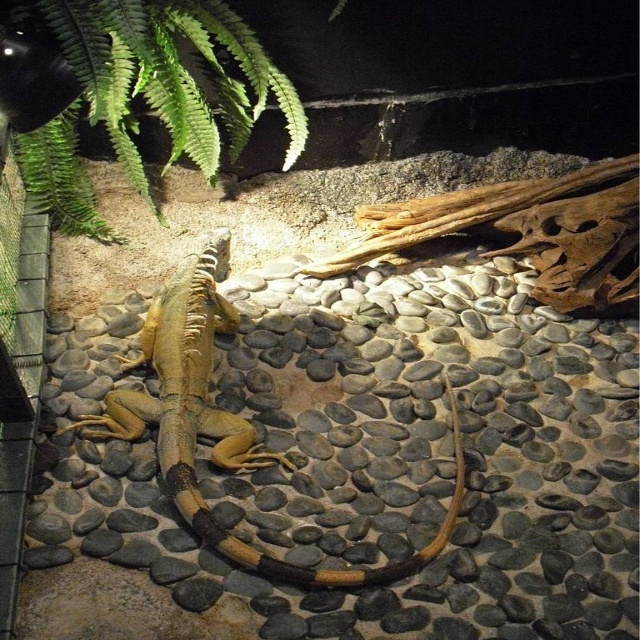Lizard: (53, 228, 468, 590)
